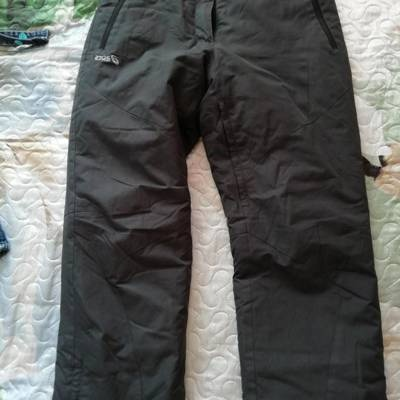Pants: (45, 5, 375, 399)
